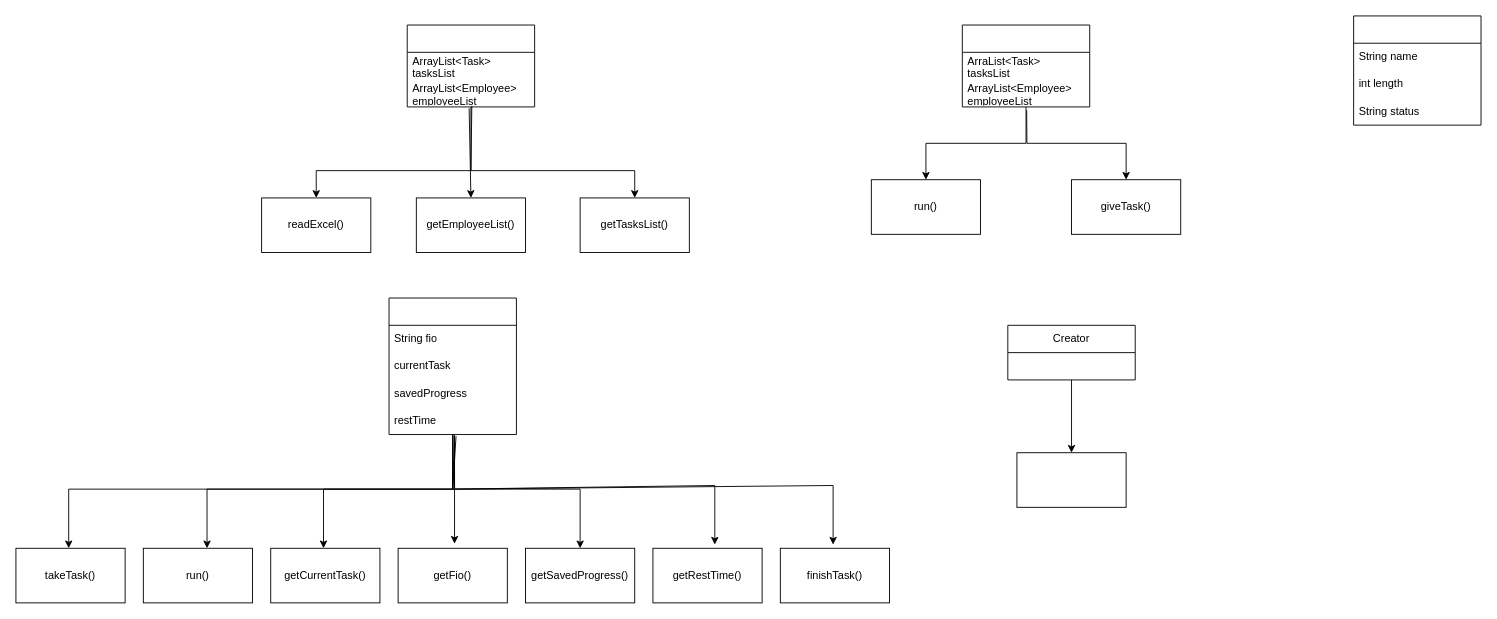
This 1497x619 diagram has some shape labels left out. Here are the shapes that lost their labels. From the top down, the box of each, then its label:
(406, 24, 535, 107): Reader
(961, 24, 1090, 107): TimeThread
(1353, 15, 1481, 125): Task
(388, 297, 516, 435): Employee
(1016, 452, 1126, 507): createXlsx
